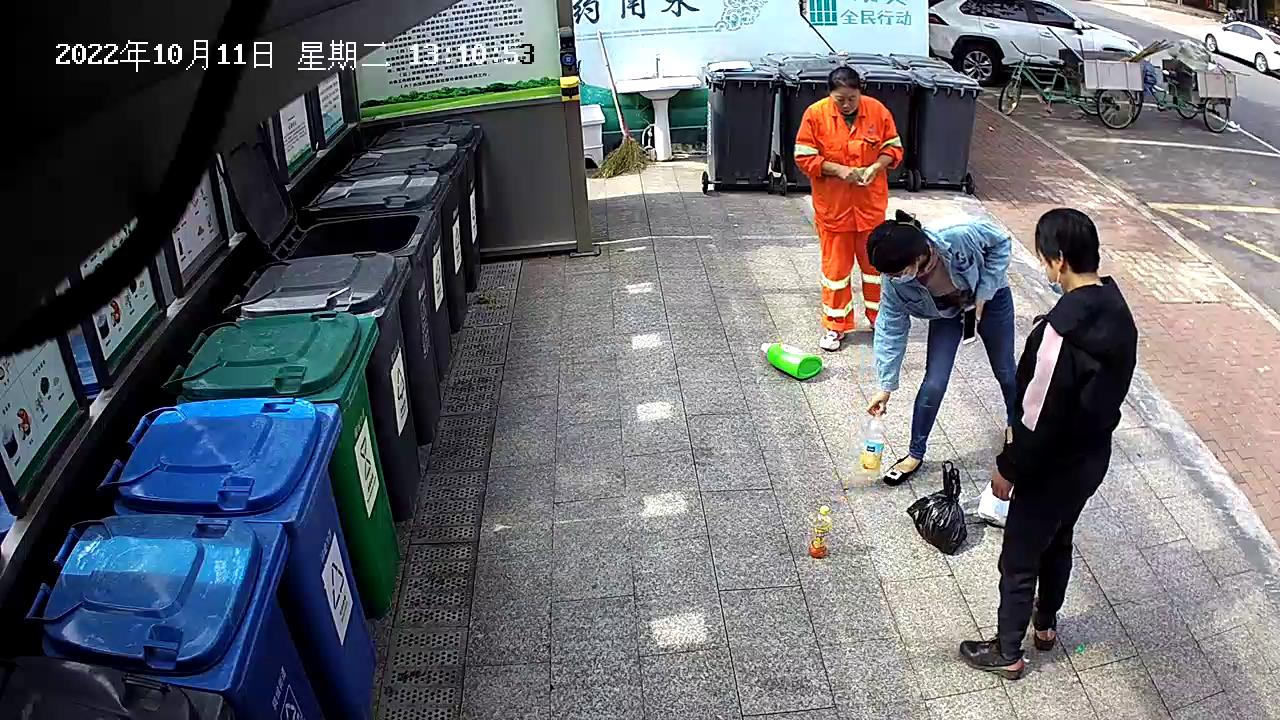garbage-bag: (904, 459, 969, 556)
person: (959, 206, 1140, 675)
suliaozhipin: (758, 339, 824, 381), (860, 406, 887, 472), (806, 502, 834, 559)
worker: (864, 206, 1020, 488), (792, 64, 905, 352)
